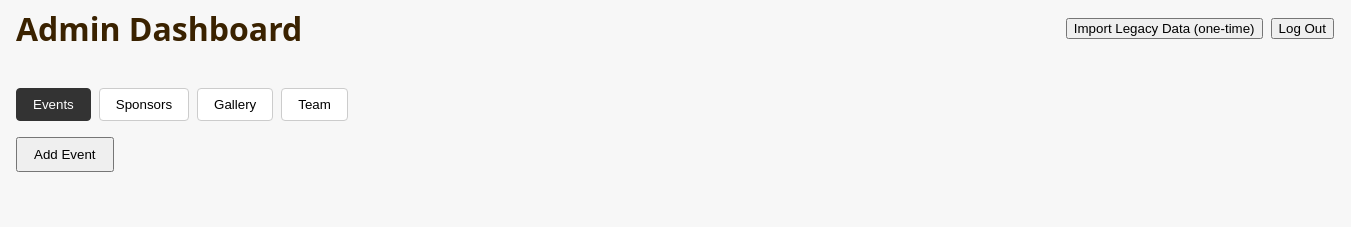
it: AdminDashboard › reports which collections were skipped because they already had data
Click the button "Import Legacy Data (one-time)" at (1164, 29), box 1066,18 -> 1263,39
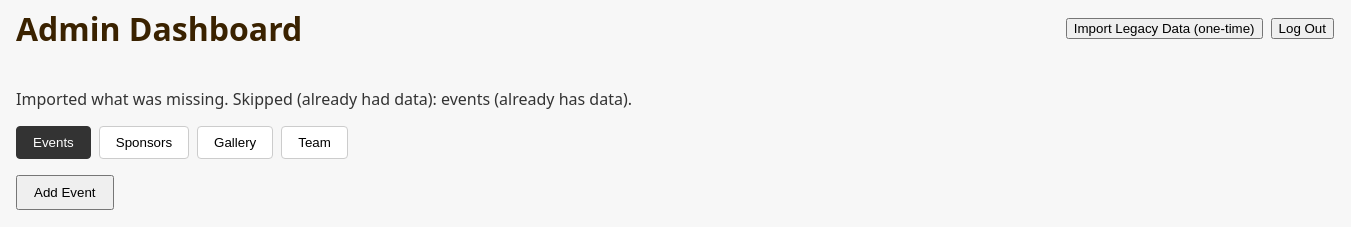
Result: the text "Imported what was missing. Skipped (already had data): events (already has data)." is shown at 16,88 -> 632,110
